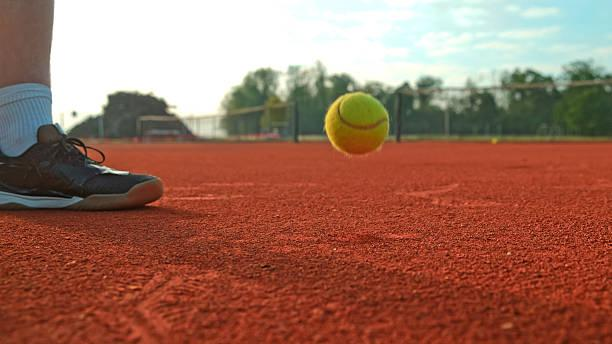ball_tennis: (323, 90, 389, 158)
